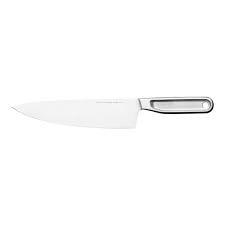Knife: (10, 95, 214, 129)
